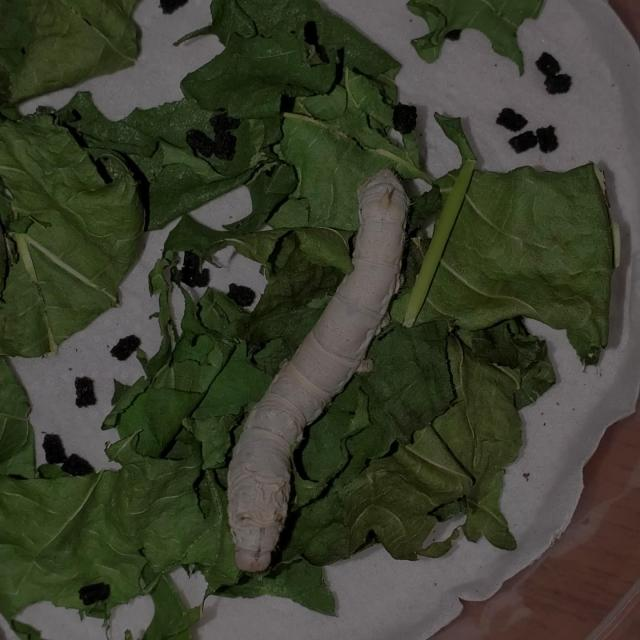Healthy: (205, 144, 471, 613)
